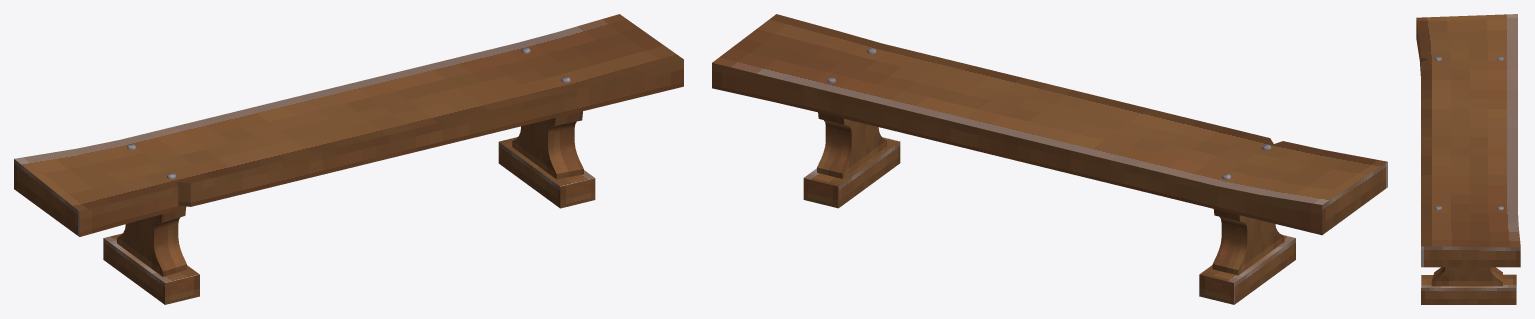
The model's file is bench-CjPIgQ_p.glb.
3 views of the same model, side by side, from view 1: azimuth 30°, elevation 25°; view 2: azimuth 150°, elevation 25°; view 3: azimuth 270°, elevation 25° (orthographic). The views are drawn at different scales.
Bounding box in the file's own units: 2.78 × 0.5332 × 0.5343.
Materials: 1 (1 with a texture image).
